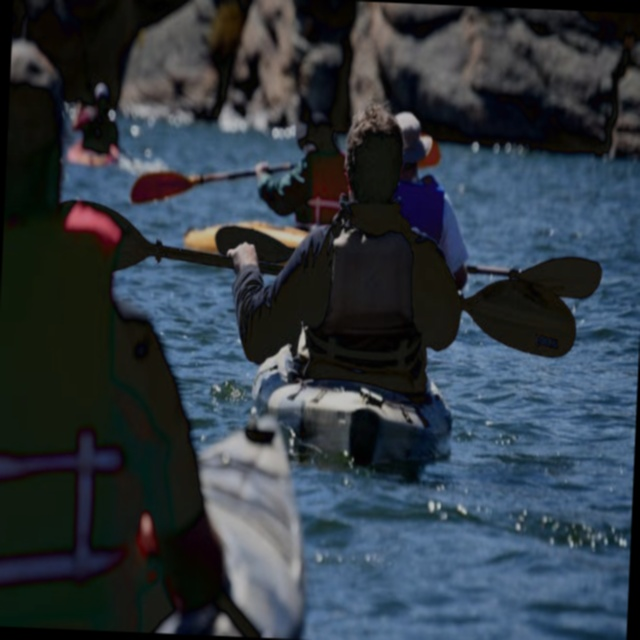clean_water: (13, 13, 627, 627)
oil_spill: (249, 192, 449, 416), (378, 0, 640, 155)
